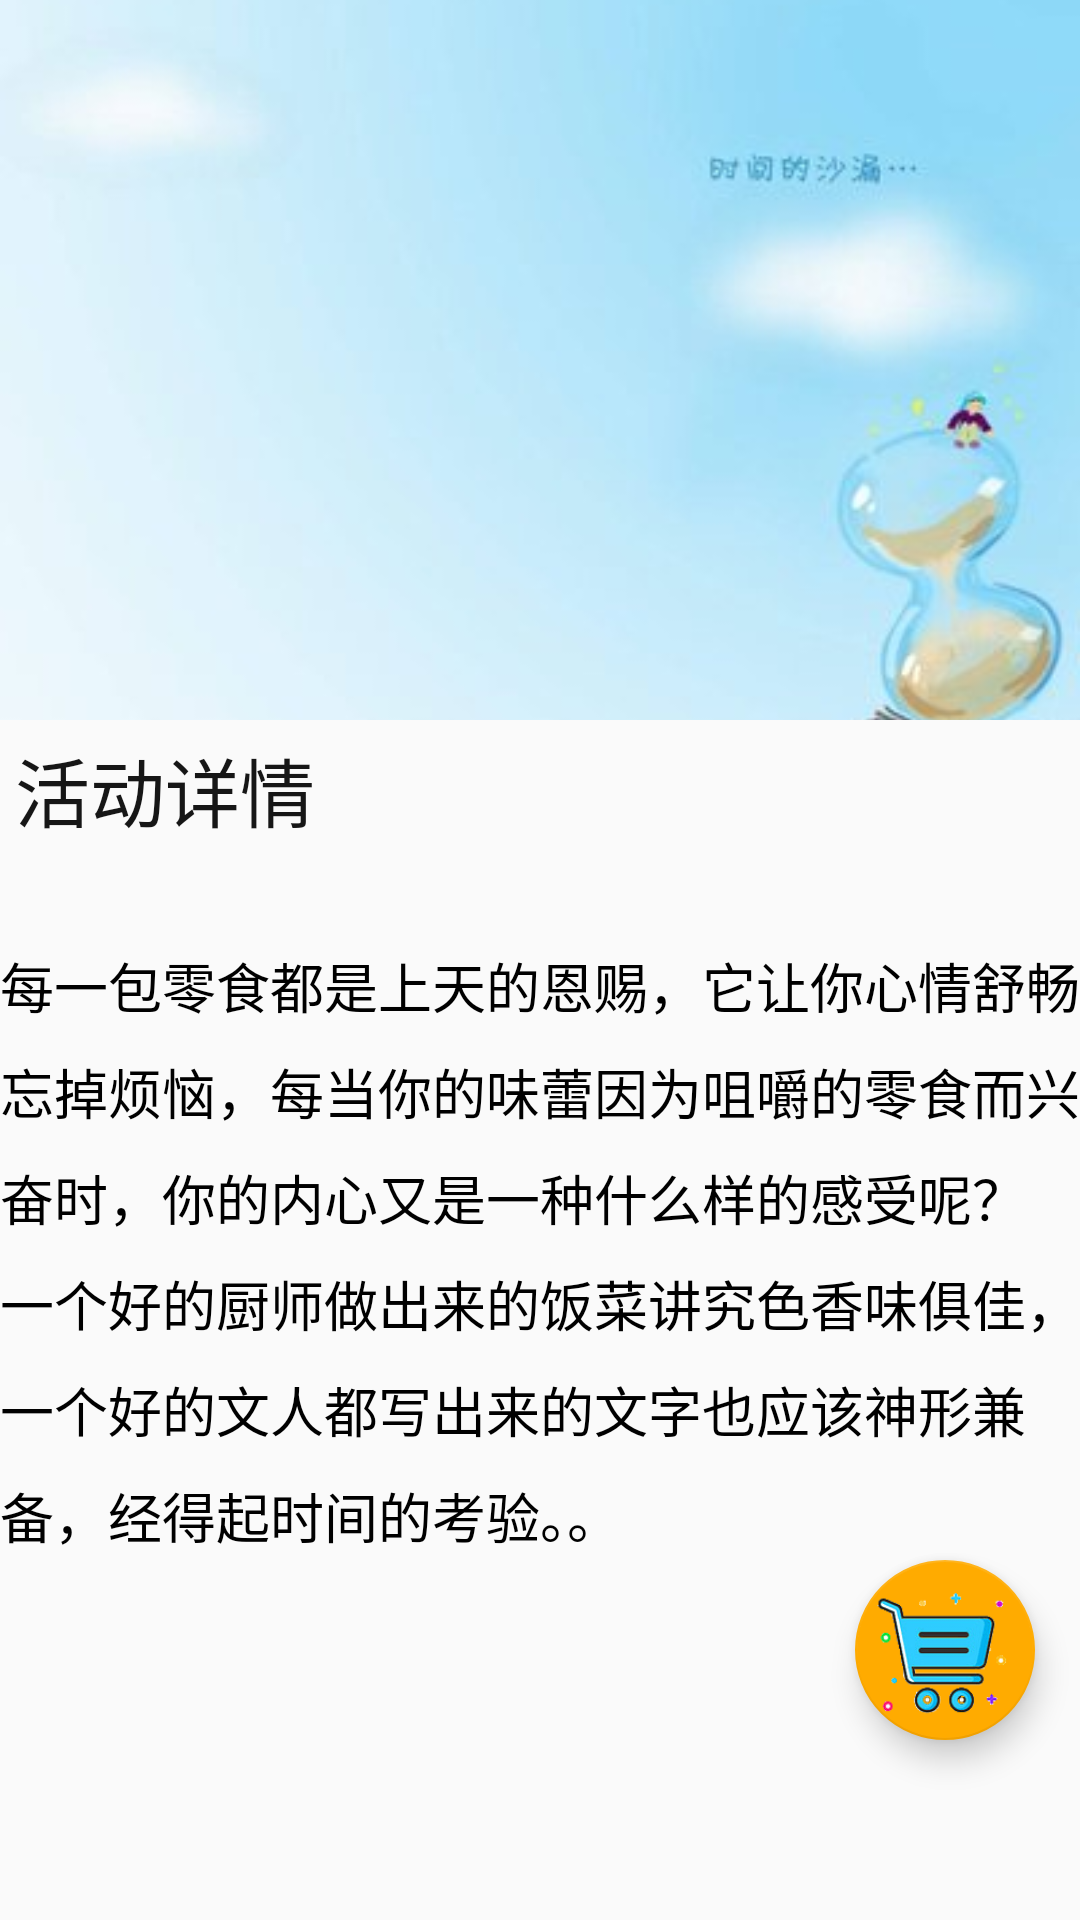

Locate icon controls on the screen. Image size 1080w x 1920h, boxes as (x1, y1, x2, y2).
shop: (855, 1560, 1035, 1740)
